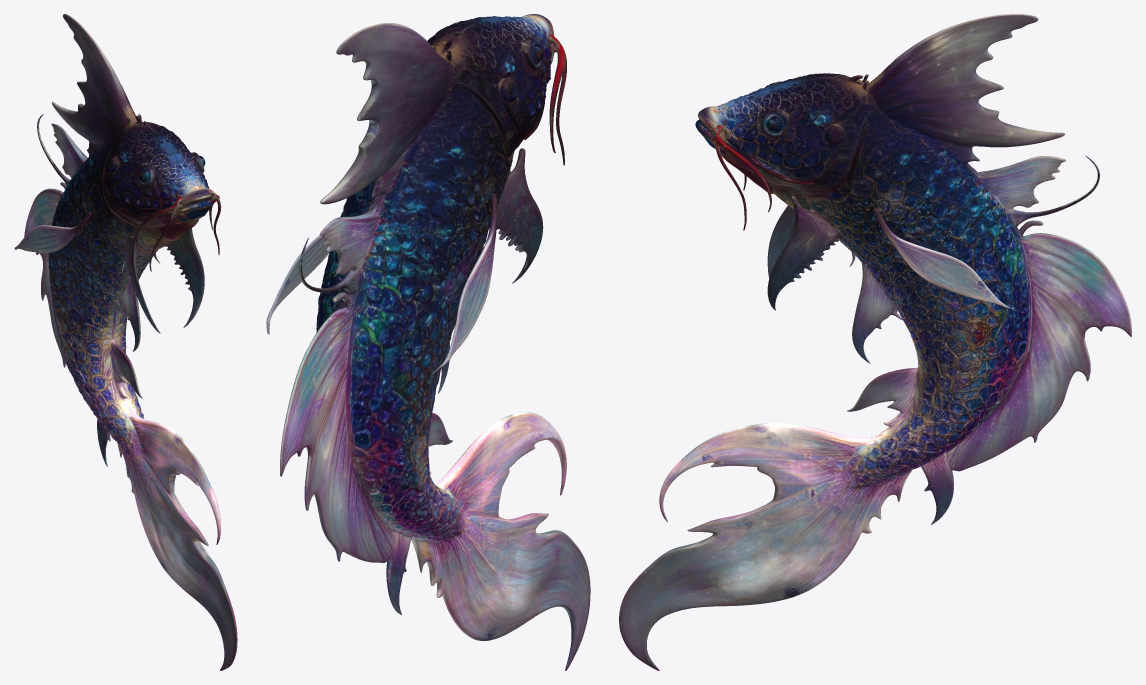
File: gemfish_koi_v2.glb
3 views of the same model, side by side, from view 1: azimuth 30°, elevation 25°; view 2: azimuth 150°, elevation 25°; view 3: azimuth 270°, elevation 25° (orthographic). The views are drawn at different scales.
Size of the model in its own units: 0.4565 by 1.9 by 1.34.
Materials: 1 (1 with a texture image).
